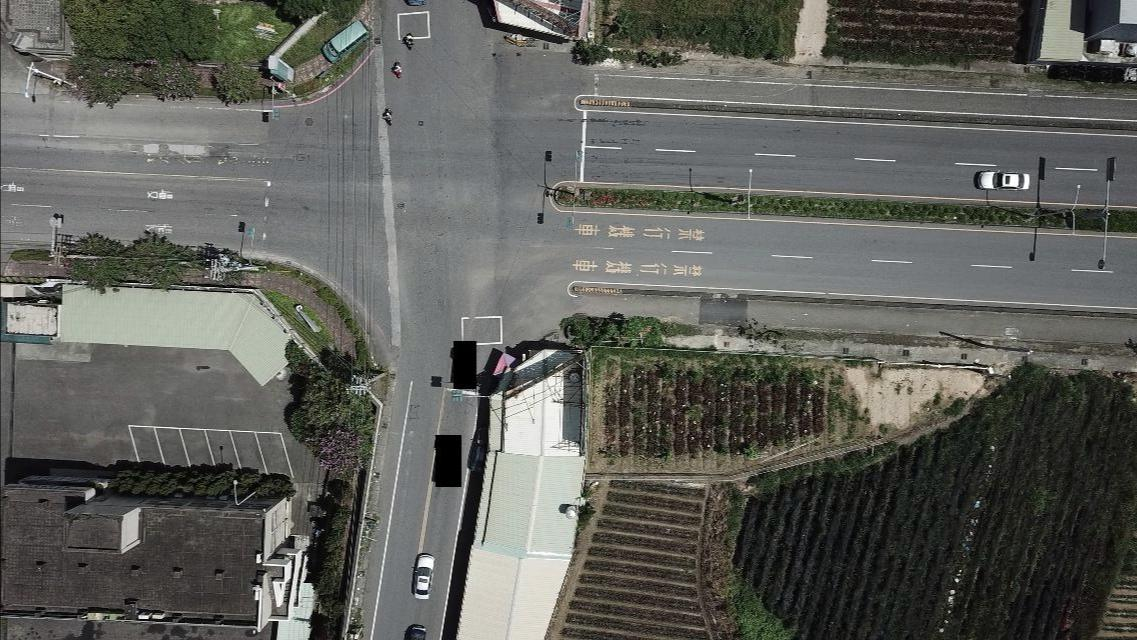vehicle: (318, 19, 371, 65), (973, 166, 1031, 191), (410, 552, 438, 602), (403, 624, 428, 639)
